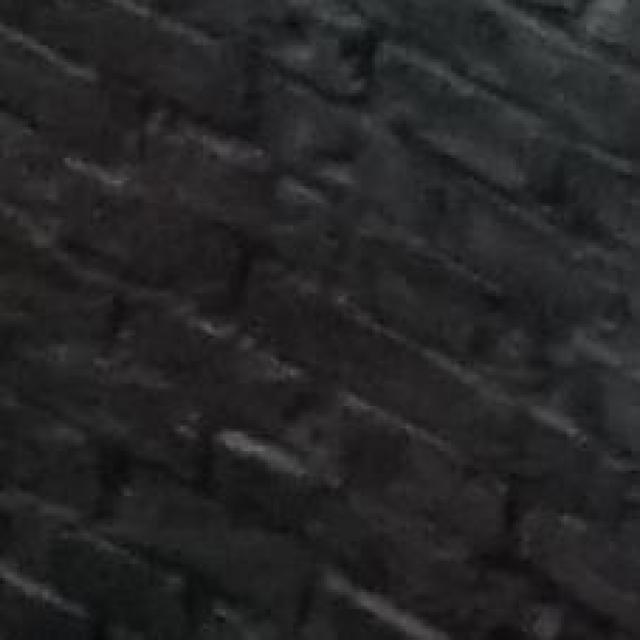Crack: (192, 55, 427, 640)
